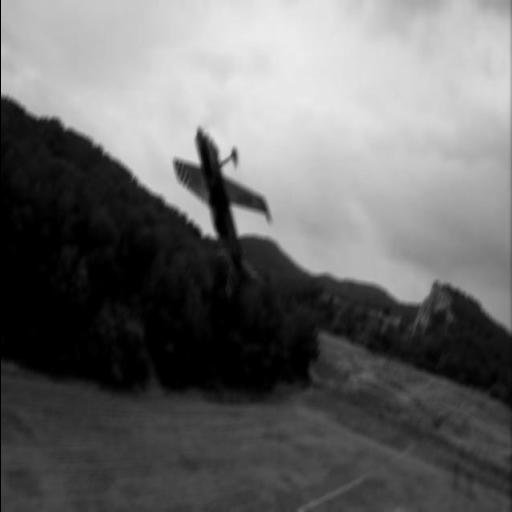uav: (172, 123, 272, 301)
